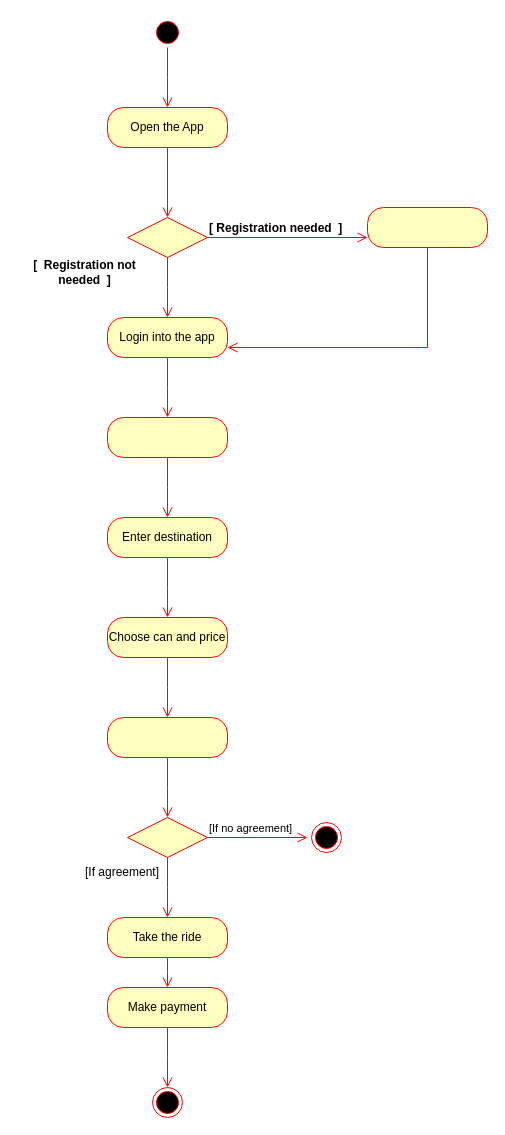
Image size: 505x1135. Some labels were removed from this diagram. Each missing label, with the centre of its shape:
"Confirm and meet driver" goes at [167,737].
"Enter current location" goes at [167,437].
"Register into the app" goes at [427,227].
